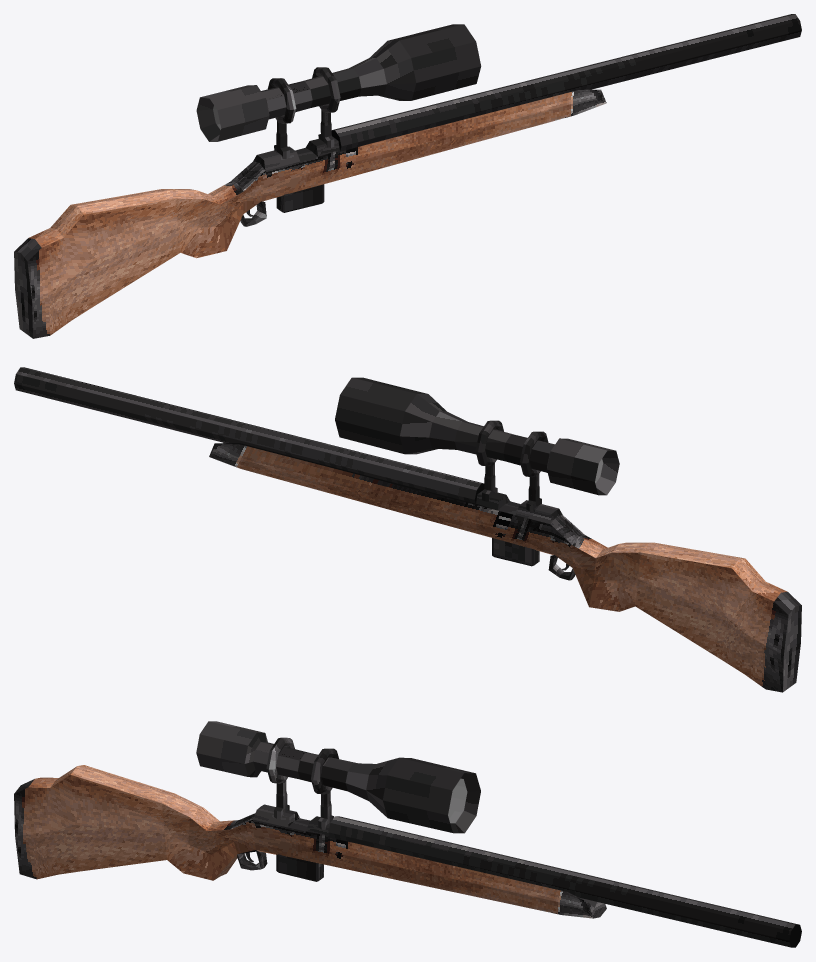
The model's file is Rifle.glb.
3 views of the same model, one above another, from view 1: azimuth 30°, elevation 25°; view 2: azimuth 150°, elevation 25°; view 3: azimuth 330°, elevation 25° (orthographic).
Parts seen in each view (by area): view 1: Rifle, Magazine; view 2: Rifle, Magazine; view 3: Rifle, Magazine.
Part boxes in pixels (left/top/right/bottom): Rifle: left=14, top=14, right=801, bottom=338; Magazine: left=276, top=184, right=324, bottom=212; Rifle: left=14, top=367, right=801, bottom=692; Magazine: left=492, top=538, right=539, bottom=566; Rifle: left=14, top=721, right=801, bottom=947; Magazine: left=276, top=854, right=323, bottom=881.
Bounding box in the file's own units: 4.54 × 1.14 × 0.3398.
Materials: 2 (1 with a texture image).
